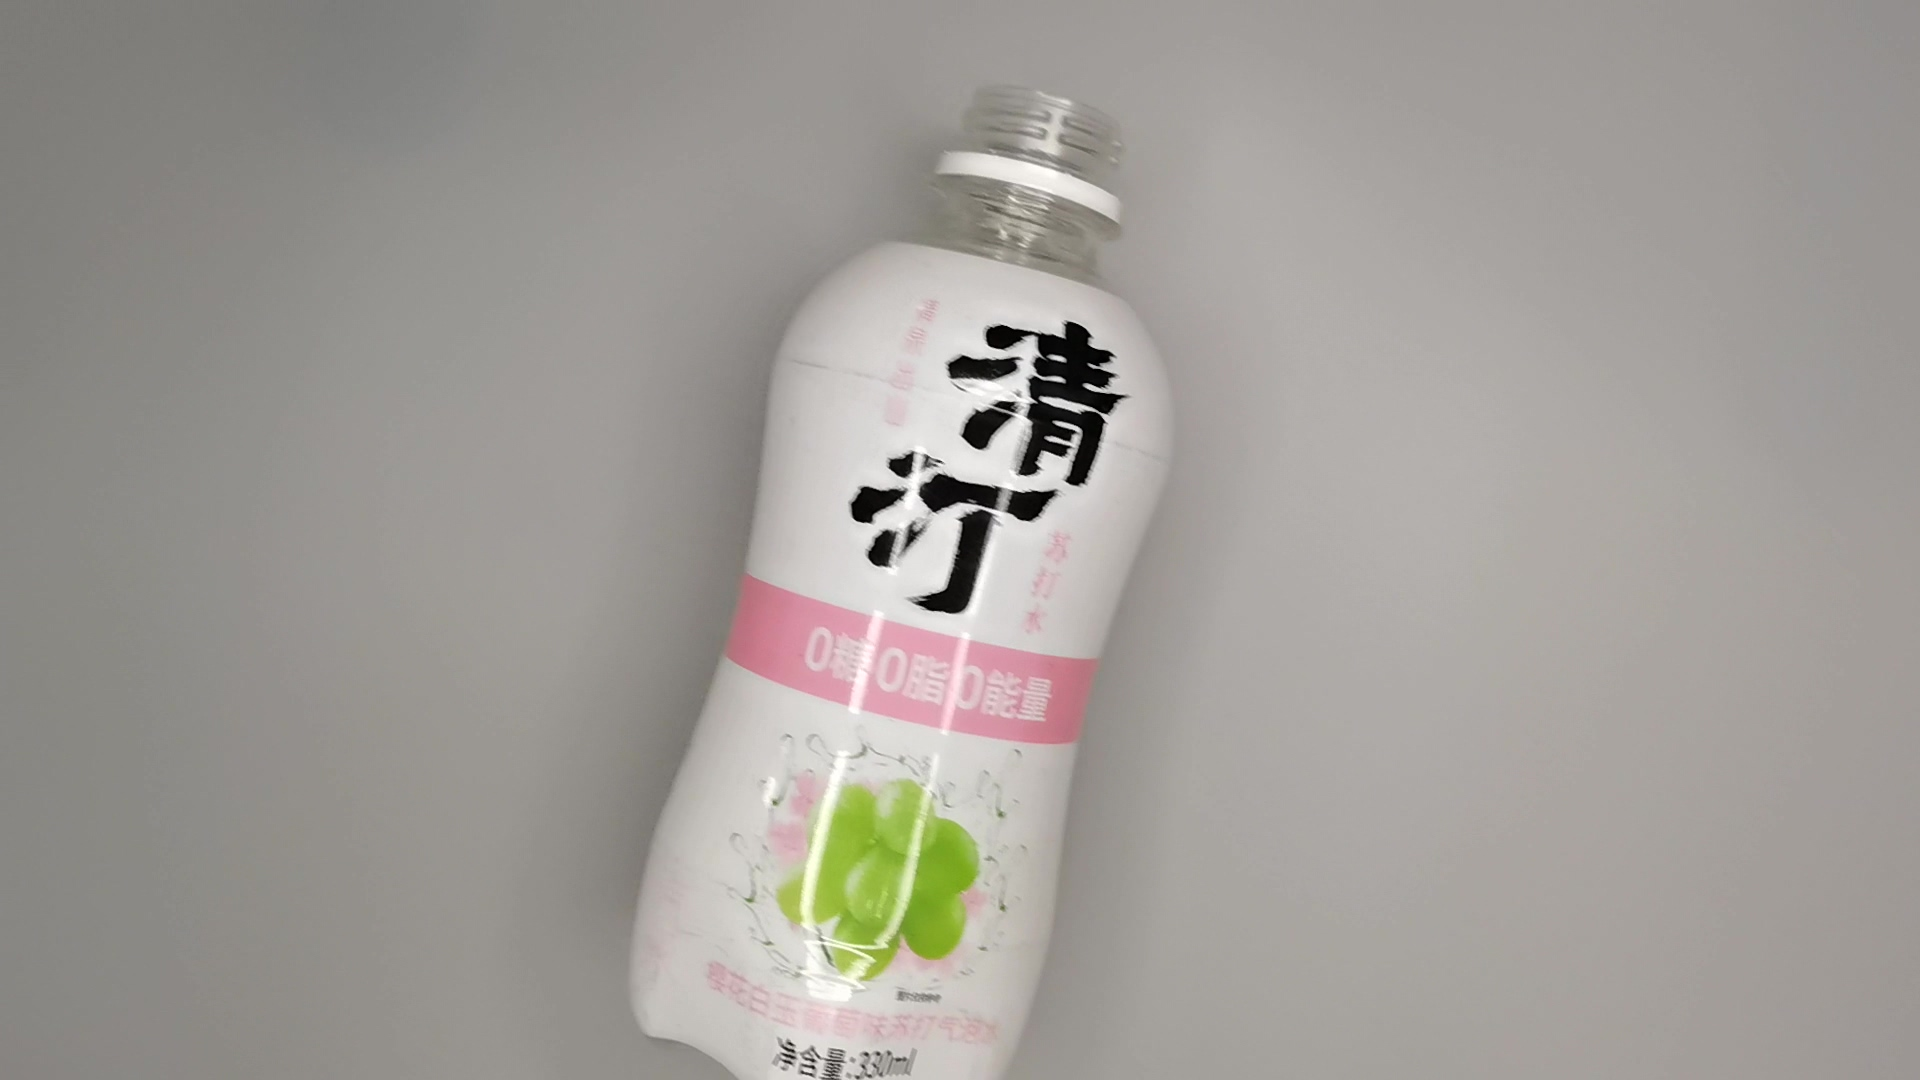bottle: (618, 79, 1184, 1080)
